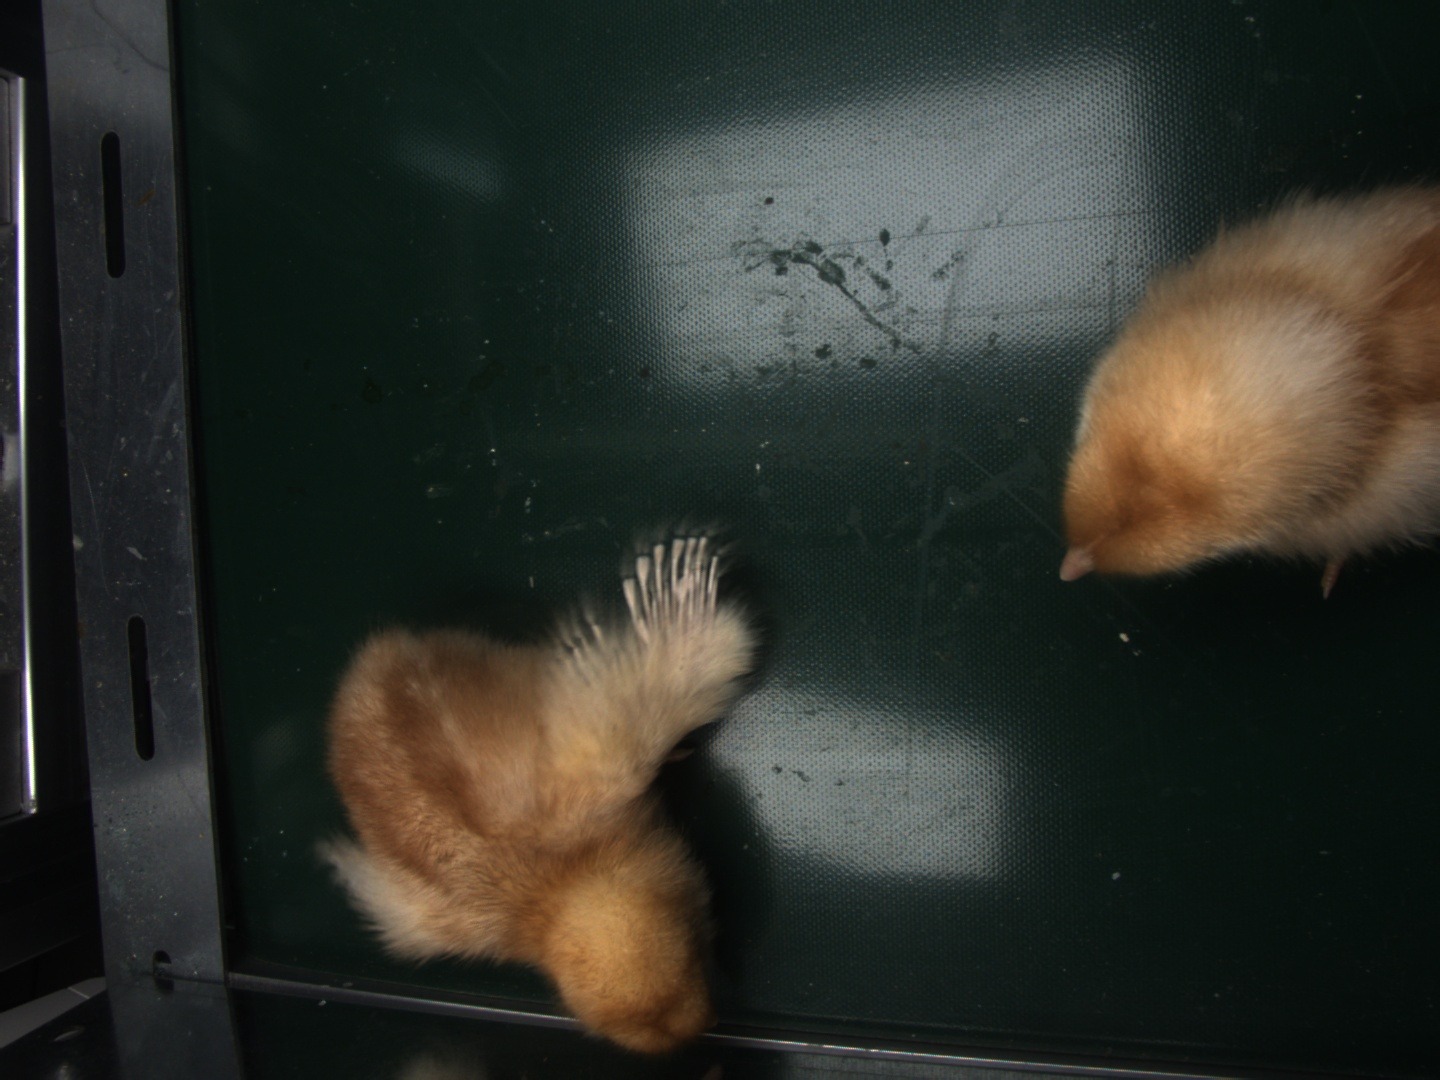female: (621, 535, 722, 627)
